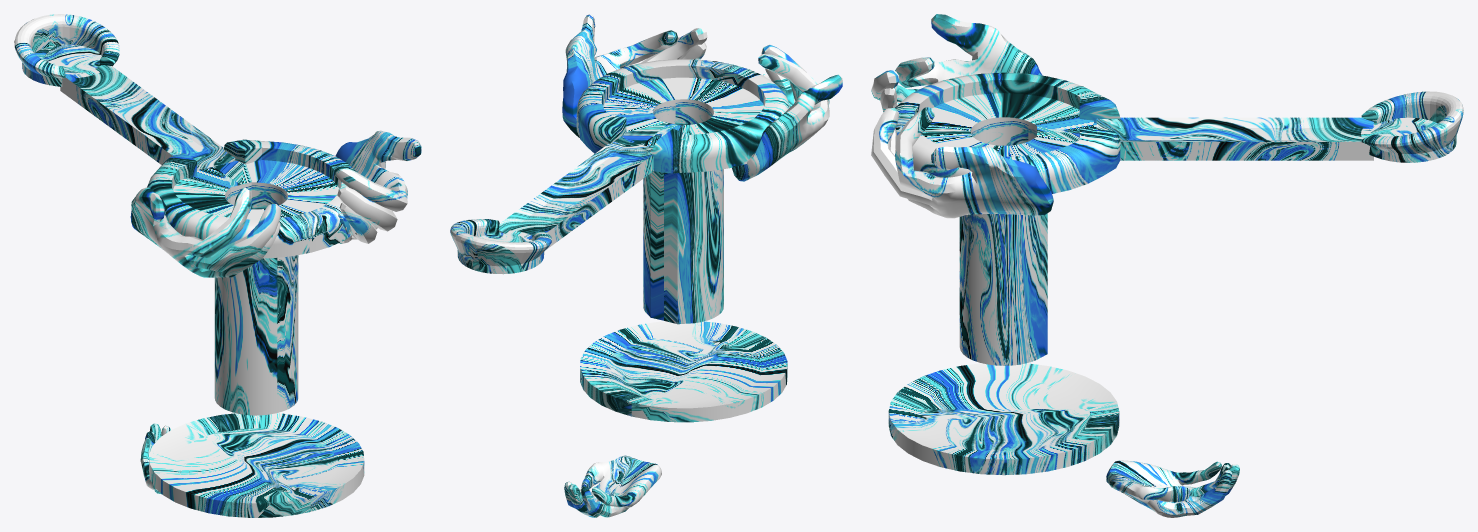
The model's file is 01_goblet of nyx.fbx.
3 renders of one model, left to right at view 1: azimuth 30°, elevation 25°; view 2: azimuth 150°, elevation 25°; view 3: azimuth 270°, elevation 25°, orthographic. The views are drawn at different scales.
Parts seen in each view (by area): view 1: Circle.002, Circle.003, Plane, Cube.008, Circle, Plane.001; view 2: Circle.002, Circle.003, Plane, Cube.008, Circle, Plane.001; view 3: Circle.002, Circle.003, Plane, Cube.008, Circle, Plane.001.
Part boxes in pixels (bbox=[...]): Circle.002: bbox=[147, 139, 357, 415]; Circle.003: bbox=[149, 413, 364, 517]; Plane: bbox=[130, 130, 421, 277]; Cube.008: bbox=[60, 65, 235, 170]; Circle: bbox=[14, 14, 119, 86]; Plane.001: bbox=[140, 423, 170, 494]; Circle.002: bbox=[576, 59, 789, 324]; Circle.003: bbox=[580, 321, 787, 422]; Plane: bbox=[562, 14, 842, 181]; Cube.008: bbox=[498, 136, 653, 249]; Circle: bbox=[450, 219, 551, 274]; Plane.001: bbox=[564, 455, 661, 517]; Circle.002: bbox=[895, 72, 1120, 365]; Circle.003: bbox=[888, 363, 1119, 475]; Plane: bbox=[871, 14, 1053, 218]; Cube.008: bbox=[1096, 117, 1373, 160]; Circle: bbox=[1361, 91, 1463, 162]; Plane.001: bbox=[1106, 460, 1239, 517].
Bounding box in the file's own units: 10.75 × 15.53 × 19.44.
